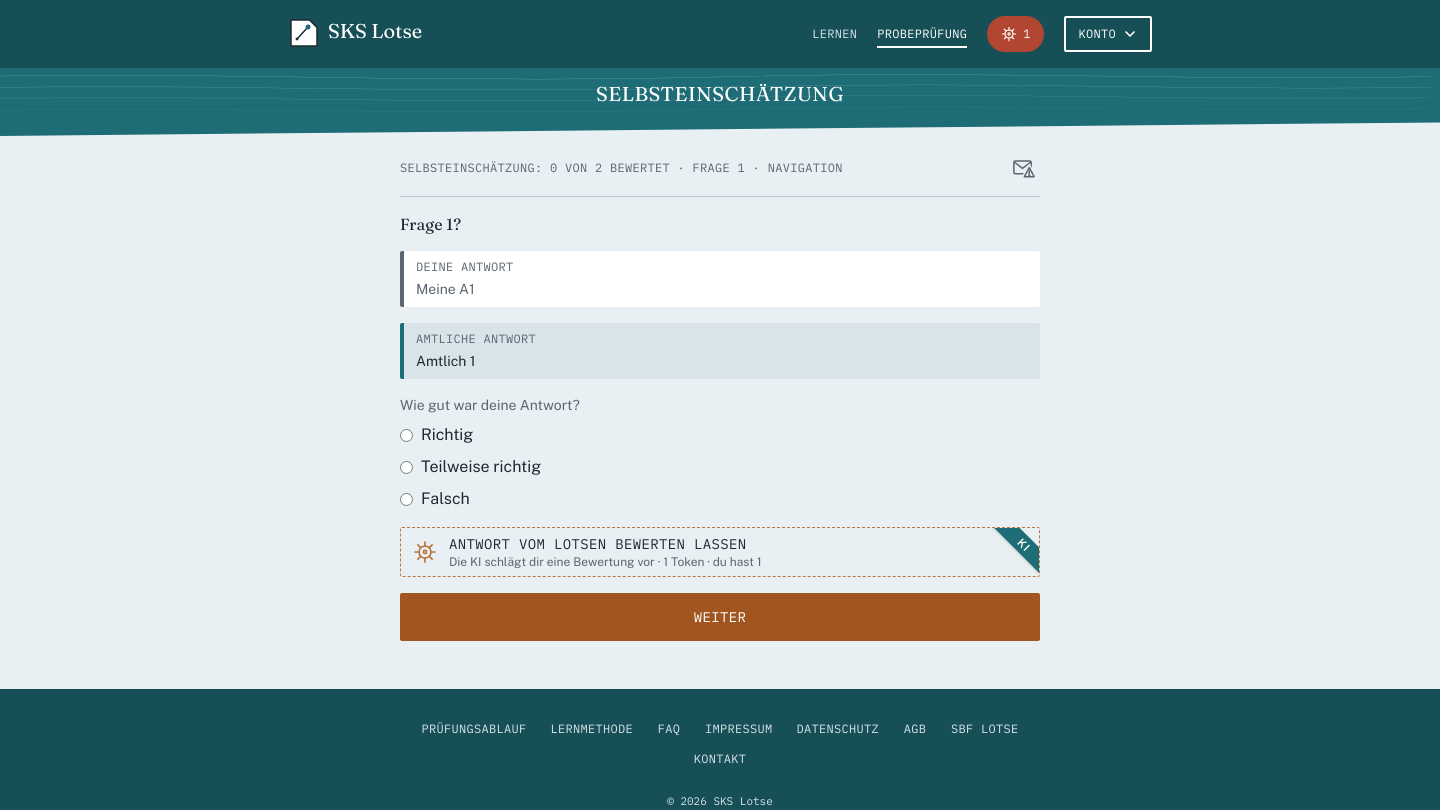
Test: ExamRunPage › offers the Lotsen-Check during exam self-assessment, preselects its suggestion and scrolls "Weiter" into view
Step 1. Click the button "Antwort vom Lotsen bewerten lassen" → click(720, 552), box [400,527,1040,577]
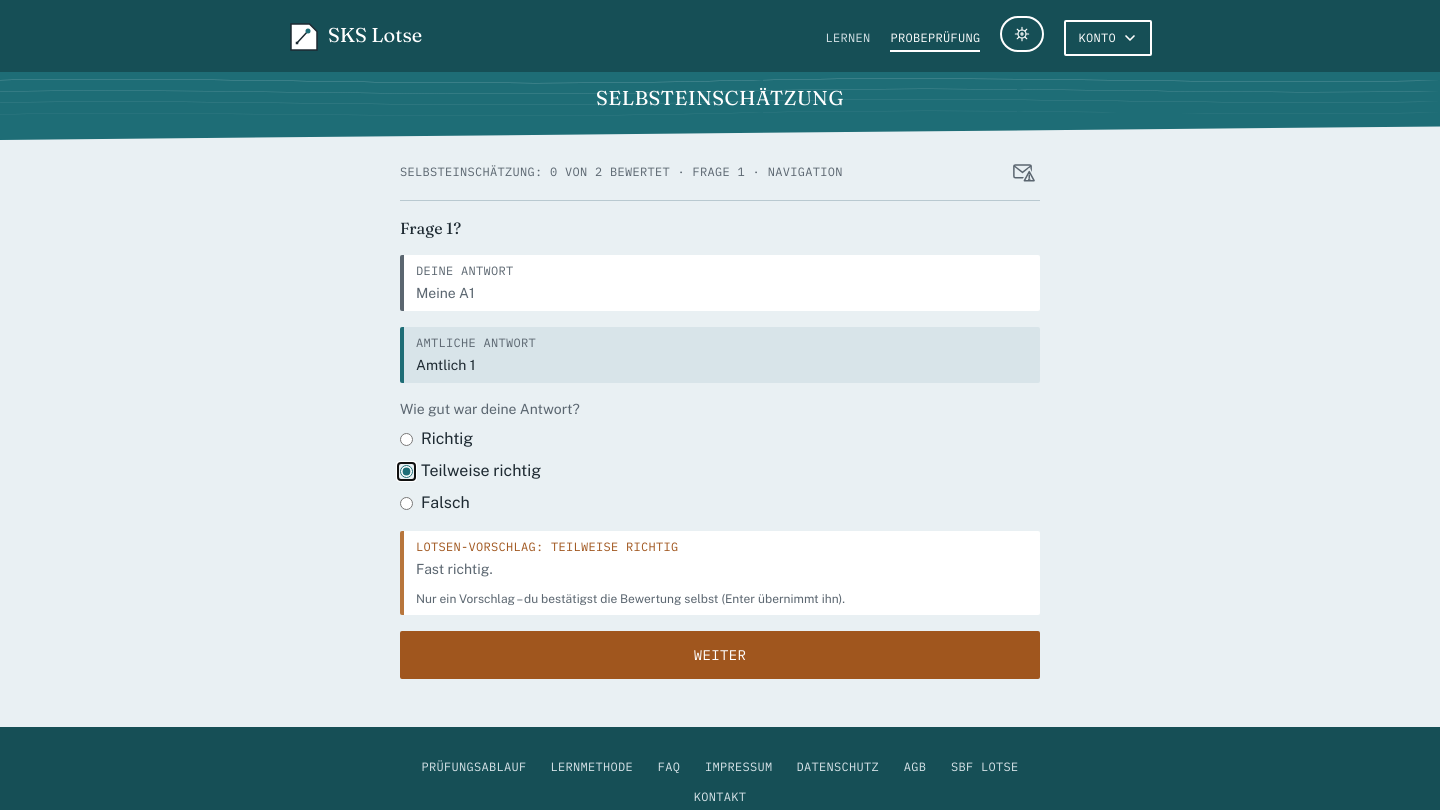
Result: the text "Fast richtig." is shown at [416,561,493,577]
Result: the radio button labelled "Teilweise richtig" is checked at [400,464,413,478]
